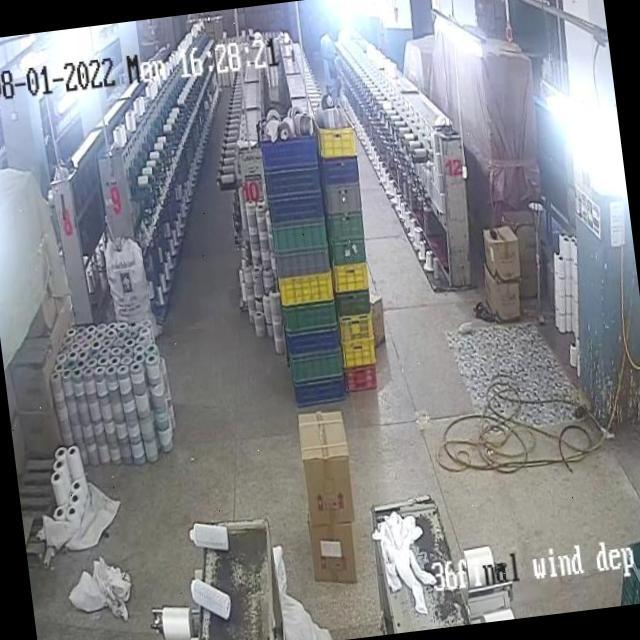person: (319, 24, 340, 96)
